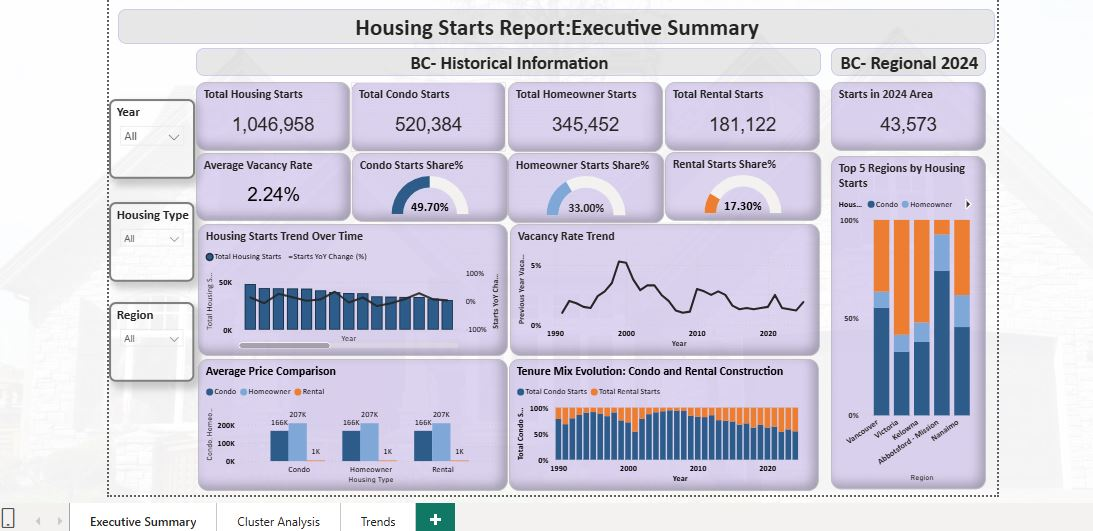

This screenshot's page, from the dashboard's own definition file:
{"tool":"powerbi","page":{"name":"Executive Summary","canvas":[1280,720],"ordinal":0},"visuals":[{"type":"slicer","title":"Housing Type","fields":{"Values":["Dim Housing Type.Housing Type"]},"box":[0,298.1,123,115.2],"z":0},{"type":"slicer","title":"Year","fields":{"Values":["Date Table.Year"]},"box":[0,149.8,123.8,115.2],"z":1000},{"type":"slicer","title":"Region","fields":{"Values":["Region.Region"]},"box":[0,442.1,123,115.2],"z":2000},{"type":"card","title":"Total Housing Starts","fields":{"Values":["Measure Table.Total Housing Starts"]},"box":[125.3,125.3,221.8,99.4],"z":3000},{"type":"shape","box":[13,20.2,1262.9,50.4],"z":4000},{"type":"shape","title":"BC- Historical Information","box":[125.3,76.3,900,40.3],"z":5000},{"type":"shape","title":"BC- Regional 2024","box":[1039.7,76.3,223.2,40.3],"z":6000},{"type":"card","title":"Total Condo Starts","fields":{"Values":["Measure Table.Total Condo Starts"]},"box":[348.5,125.3,223.2,100.8],"z":7000},{"type":"card","title":"Total Homeowner Starts","fields":{"Values":["Measure Table.Total Homeowner Starts"]},"box":[574.6,125.3,223.2,100.8],"z":8000},{"type":"card","title":"Total Rental Starts","fields":{"Values":["Measure Table.Total Rental Starts"]},"box":[800.6,125.3,223.2,99.4],"z":9000},{"type":"card","title":"Starts in 2024 Area","fields":{"Values":["Measure Table.Starts 2024 Area"]},"box":[1039.7,125.3,223.2,99.4],"z":10000},{"type":"lineClusteredColumnComboChart","title":"Housing Starts Trend Over Time","fields":{"Category":["Date Table.Year"],"Y":["Measure Table.Total Housing Starts"],"Y2":["Measure Table.Starts YoY Change (%)"]},"box":[128.2,329.8,446.4,190],"z":11000},{"type":"card","title":"Average Vacancy Rate","fields":{"Values":["Measure Table.Average Vacancy Rate (%)"]},"box":[125.3,227.5,223.2,97.9],"z":12000},{"type":"lineChart","title":"Vacancy Rate Trend","fields":{"Category":["Date Table.Year"],"Y":["Measure Table.PreYear Vacancy Rate(%)"]},"box":[577.4,329.8,446.4,190.1],"z":13000},{"type":"hundredPercentStackedColumnChart","title":"Top 5 Regions by Housing Starts","fields":{"Category":["Region.Region"],"Series":["Dim Housing Type.Housing Type"],"Y":["Measure Table.Total Housing Starts Area"]},"box":[1039.7,231.8,223.2,479.5],"z":14000},{"type":"gauge","title":"Condo Starts Share%","fields":{"Y":["Measure Table.% Condo Starts"]},"box":[349.9,227.5,224.6,99.4],"z":15000},{"type":"gauge","title":"Homeowner Starts Share%","fields":{"Y":["Measure Table.% Homeowner Starts"]},"box":[574.6,227.6,224.6,100.8],"z":16000},{"type":"gauge","title":"Rental Starts Share%","fields":{"Y":["Measure Table.% Rental Starts"]},"box":[800.6,226.1,224.6,99.4],"z":17000},{"type":"hundredPercentStackedColumnChart","title":"Tenure Mix Evolution: Condo and Rental Construction ","fields":{"Category":["Date Table.Year"],"Y":["Measure Table.Total Condo Starts","Measure Table.Total Rental Starts"]},"box":[576,524.2,446.4,190],"z":18000},{"type":"clusteredColumnChart","title":"Average Price Comparison","fields":{"Category":["Dim Housing Type.Housing Type"],"Y":["Avg(BC Housing Data.Average Condo Price)","Avg(BC Housing Data.Average Home Price)","Avg(BC Housing Data.Average Rent (1BR))"]},"box":[128.2,524.2,446.4,190],"z":19000}]}

Visuals, with their boxes on the page's 1280x720 design canvas (x1, y1, x2, y2). These are canvas units, not pixel positions in the 1093x531 screenshot, which may show the page scaled, cropped or inside an application window:
"Housing Type" slicer: bbox=[0, 298, 123, 413]
"Year" slicer: bbox=[0, 150, 124, 265]
"Region" slicer: bbox=[0, 442, 123, 557]
"Total Housing Starts" card: bbox=[125, 125, 347, 225]
shape: bbox=[13, 20, 1276, 71]
"BC- Historical Information" shape: bbox=[125, 76, 1025, 117]
"BC- Regional 2024" shape: bbox=[1040, 76, 1263, 117]
"Total Condo Starts" card: bbox=[348, 125, 572, 226]
"Total Homeowner Starts" card: bbox=[575, 125, 798, 226]
"Total Rental Starts" card: bbox=[801, 125, 1024, 225]
"Starts in 2024 Area" card: bbox=[1040, 125, 1263, 225]
"Housing Starts Trend Over Time" lineClusteredColumnComboChart: bbox=[128, 330, 575, 520]
"Average Vacancy Rate" card: bbox=[125, 228, 348, 325]
"Vacancy Rate Trend" lineChart: bbox=[577, 330, 1024, 520]
"Top 5 Regions by Housing Starts" hundredPercentStackedColumnChart: bbox=[1040, 232, 1263, 711]
"Condo Starts Share%" gauge: bbox=[350, 228, 574, 327]
"Homeowner Starts Share%" gauge: bbox=[575, 228, 799, 328]
"Rental Starts Share%" gauge: bbox=[801, 226, 1025, 326]
"Tenure Mix Evolution: Condo and Rental Construction " hundredPercentStackedColumnChart: bbox=[576, 524, 1022, 714]
"Average Price Comparison" clusteredColumnChart: bbox=[128, 524, 575, 714]
